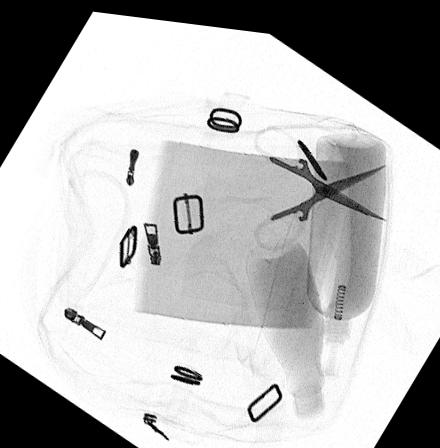Scissors: (249, 114, 390, 247)
